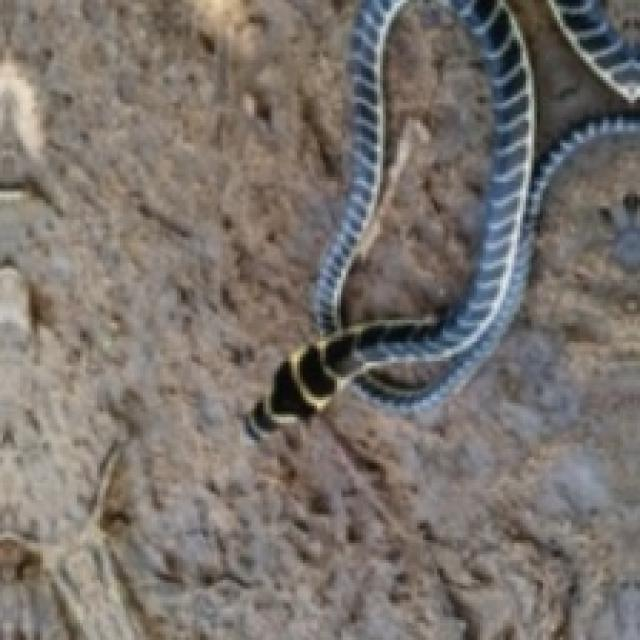king cobra: (246, 0, 637, 434), (546, 0, 637, 100)
